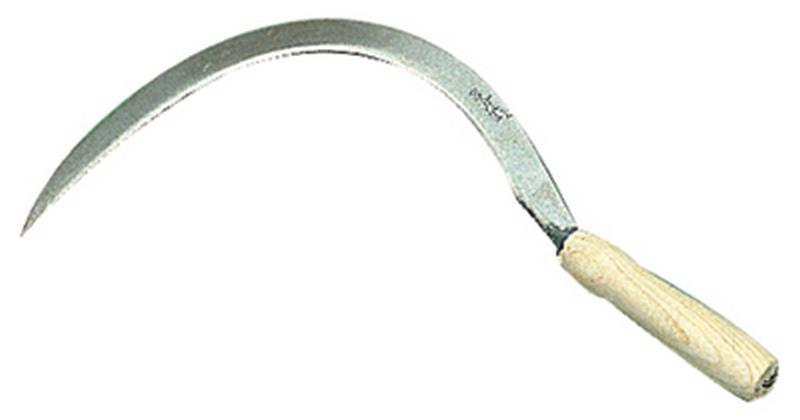foice: (14, 13, 778, 400)
